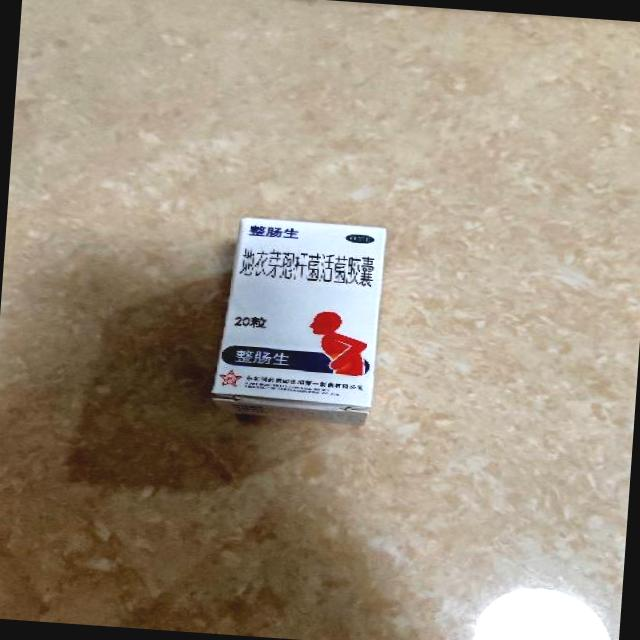box: (208, 214, 388, 417)
